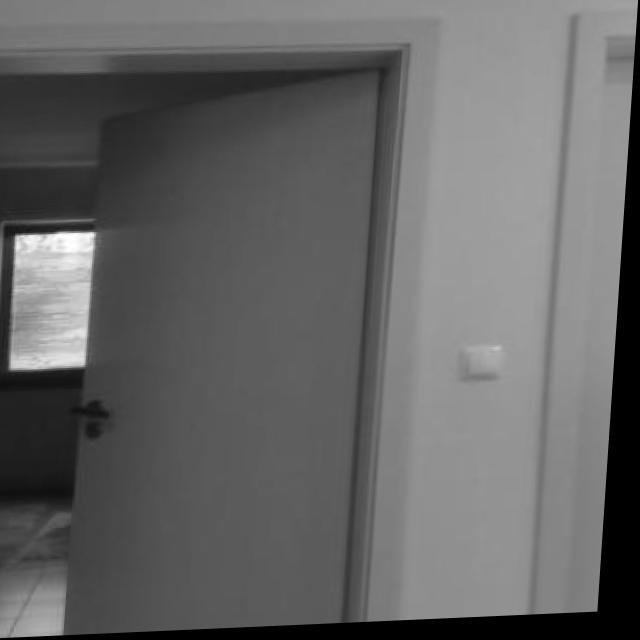door_handle: (69, 398, 131, 432)
